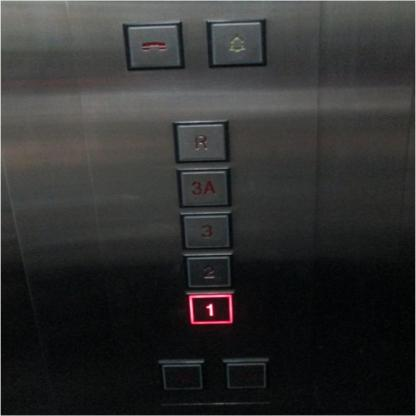1: (185, 290, 235, 326)
2: (183, 253, 234, 289)
3: (177, 210, 233, 250)
3A: (174, 166, 233, 209)
R: (170, 119, 229, 162)
alarm: (202, 17, 271, 68)
blur: (156, 356, 207, 392), (220, 356, 270, 392)
call: (119, 20, 188, 72)
